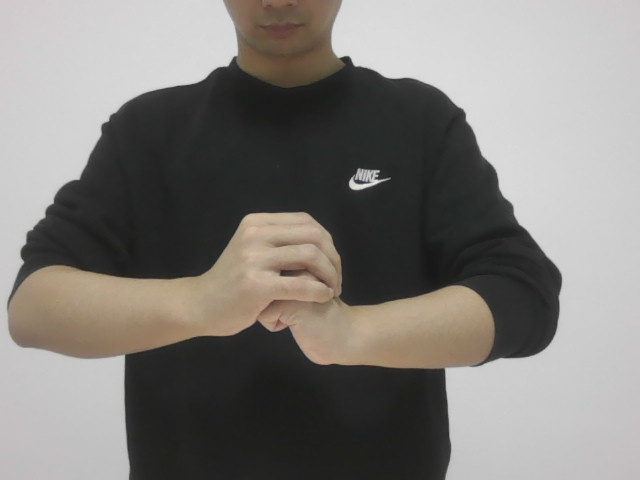wish: (202, 204, 357, 376)
